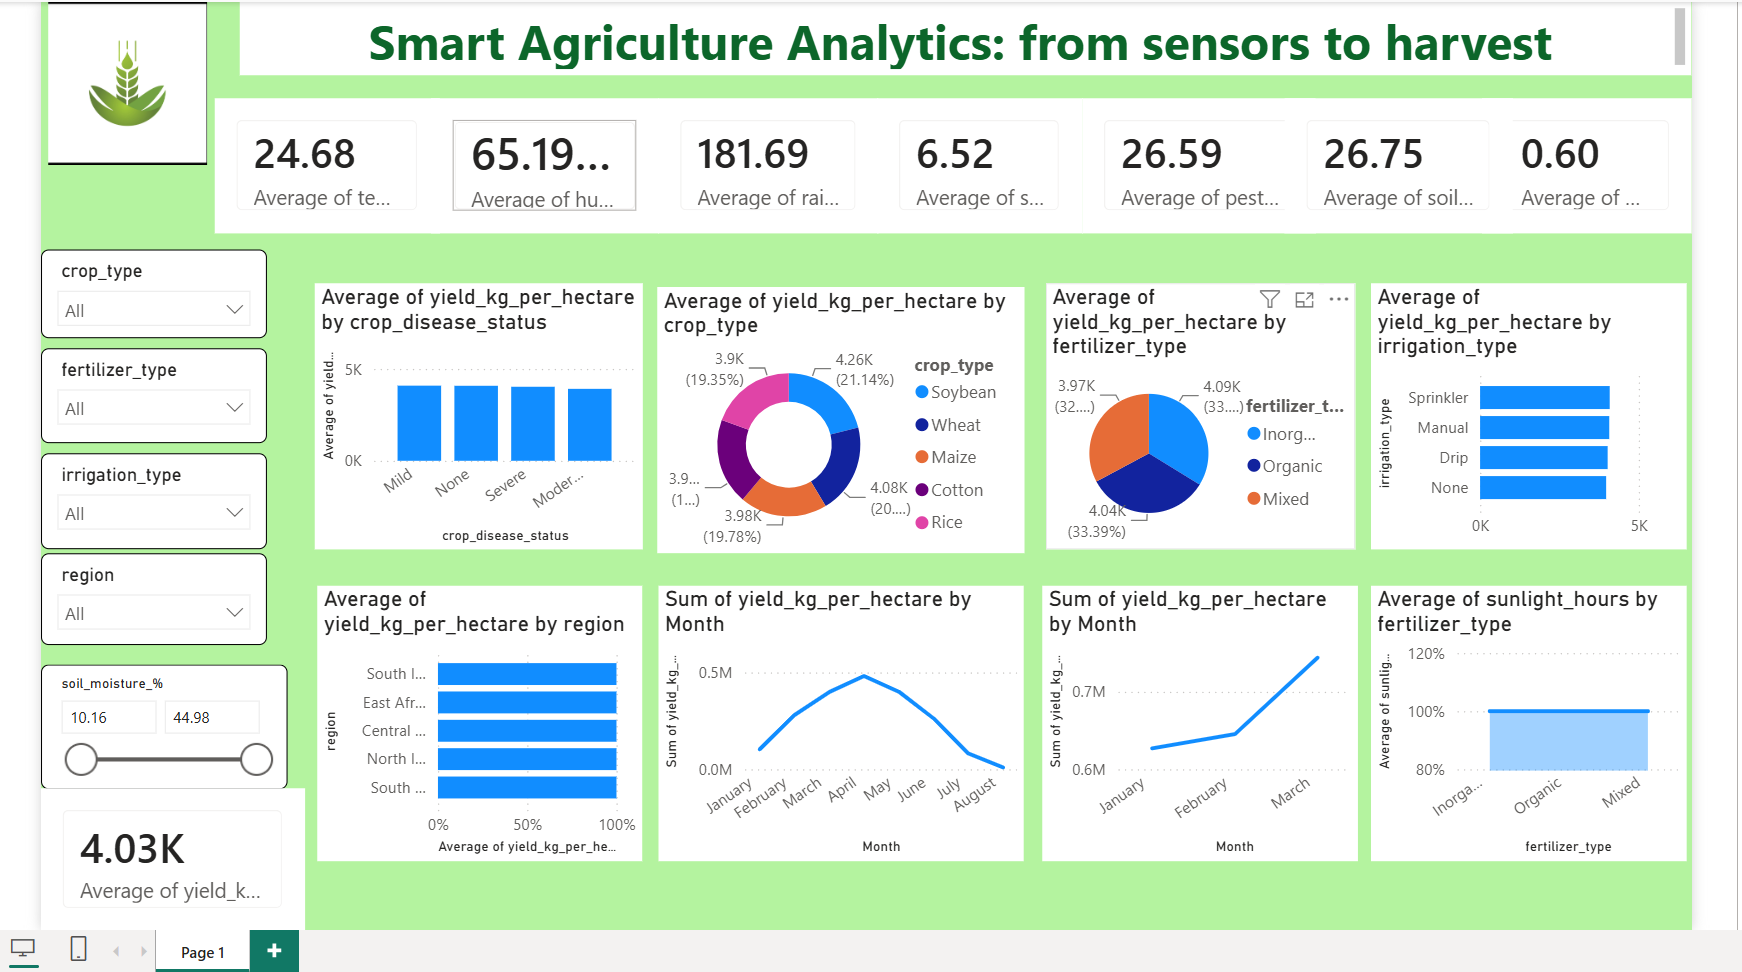

What the dashboard file says about the page in this screenshot:
{"tool":"powerbi","page":{"name":"Page 1","canvas":[1280,720],"ordinal":0},"visuals":[{"type":"cardVisual","fields":{"Data":["Avg(Smart_Farming_Crop_Yield_2024.humidity_%)"]},"box":[302.2,74.4,176.7,104.4],"z":0},{"type":"cardVisual","fields":{"Data":["Avg(Smart_Farming_Crop_Yield_2024.NDVI_index)"]},"box":[1117.8,74.4,162.2,104.4],"z":1},{"type":"cardVisual","fields":{"Data":["Avg(Smart_Farming_Crop_Yield_2024.pesticide_usage_ml)"]},"box":[807.8,74.4,181.1,104.4],"z":2},{"type":"cardVisual","fields":{"Data":["Avg(Smart_Farming_Crop_Yield_2024.rainfall_mm)"]},"box":[478.9,74.4,170,104.4],"z":3},{"type":"cardVisual","fields":{"Data":["Avg(Smart_Farming_Crop_Yield_2024.soil_moisture_%)"]},"box":[964.4,74.4,176.7,104.4],"z":4},{"type":"cardVisual","fields":{"Data":["Avg(Smart_Farming_Crop_Yield_2024.soil_pH)"]},"box":[648.9,74.4,158.9,104.4],"z":5},{"type":"cardVisual","fields":{"Data":["Avg(Smart_Farming_Crop_Yield_2024.temperature_C)"]},"box":[134.4,74.4,174.4,104.4],"z":6},{"type":"clusteredColumnChart","fields":{"Category":["Smart_Farming_Crop_Yield_2024.crop_disease_status"],"Y":["Avg(Smart_Farming_Crop_Yield_2024.yield_kg_per_hectare)"]},"box":[212.2,217.8,254.4,206.7],"z":7},{"type":"donutChart","fields":{"Y":["Avg(Smart_Farming_Crop_Yield_2024.yield_kg_per_hectare)"],"Category":["Smart_Farming_Crop_Yield_2024.crop_type"]},"box":[477.8,221.1,284.4,206.7],"z":8},{"type":"pieChart","fields":{"Y":["Avg(Smart_Farming_Crop_Yield_2024.yield_kg_per_hectare)"],"Category":["Smart_Farming_Crop_Yield_2024.fertilizer_type"]},"box":[778.9,217.8,240,206.7],"z":9},{"type":"barChart","fields":{"Y":["Avg(Smart_Farming_Crop_Yield_2024.yield_kg_per_hectare)"],"Category":["Smart_Farming_Crop_Yield_2024.irrigation_type"]},"box":[1031.1,217.8,244.4,206.7],"z":10},{"type":"lineChart","fields":{"Y":["Sum(Smart_Farming_Crop_Yield_2024.yield_kg_per_hectare)"],"Category":["Smart_Farming_Crop_Yield_2024.timestamp.Variation.Date Hierarchy.Month"]},"box":[478.9,452.2,283.3,213.3],"z":11},{"type":"lineChart","fields":{"Y":["Sum(Smart_Farming_Crop_Yield_2024.yield_kg_per_hectare)"],"Category":["Smart_Farming_Crop_Yield_2024.sowing_date.Variation.Date Hierarchy.Month"]},"box":[776.7,452.2,244.4,213.3],"z":12},{"type":"slicer","fields":{"Values":["Smart_Farming_Crop_Yield_2024.crop_type"]},"box":[0,192.2,175.6,68.9],"z":13},{"type":"slicer","fields":{"Values":["Smart_Farming_Crop_Yield_2024.fertilizer_type"]},"box":[0,268.9,175.6,73.3],"z":14},{"type":"slicer","fields":{"Values":["Smart_Farming_Crop_Yield_2024.irrigation_type"]},"box":[0,350,175.6,74.4],"z":15},{"type":"slicer","fields":{"Values":["Smart_Farming_Crop_Yield_2024.region"]},"box":[0,427.8,175.6,71.1],"z":16},{"type":"hundredPercentStackedBarChart","fields":{"Category":["Smart_Farming_Crop_Yield_2024.region"],"Y":["Avg(Smart_Farming_Crop_Yield_2024.yield_kg_per_hectare)"]},"box":[214.4,452.2,252.2,213.3],"z":17},{"type":"slicer","fields":{"Values":["Smart_Farming_Crop_Yield_2024.soil_moisture_%"]},"box":[0,513.3,191.1,96.7],"z":18},{"type":"cardVisual","fields":{"Data":["Avg(Smart_Farming_Crop_Yield_2024.yield_kg_per_hectare)"]},"box":[0,610,204.4,110],"z":19},{"type":"hundredPercentStackedAreaChart","fields":{"Category":["Smart_Farming_Crop_Yield_2024.fertilizer_type"],"Y":["Avg(Smart_Farming_Crop_Yield_2024.sunlight_hours)"]},"box":[1031.1,452.2,244.4,213.3],"z":20},{"type":"textbox","box":[154.4,0,1125.6,56.7],"z":21},{"type":"image","box":[0,0,134.4,126.7],"z":23}]}

Visuals, with their boxes on the page's 1280x720 design canvas (x1, y1, x2, y2). These are canvas units, not pixel positions in the 1742x972 screenshot, which may show the page scaled, cropped or inside an application window:
cardVisual - Avg(Smart_Farming_Crop_Yield_2024.humidity_%): [302, 74, 479, 179]
cardVisual - Avg(Smart_Farming_Crop_Yield_2024.NDVI_index): [1118, 74, 1280, 179]
cardVisual - Avg(Smart_Farming_Crop_Yield_2024.pesticide_usage_ml): [808, 74, 989, 179]
cardVisual - Avg(Smart_Farming_Crop_Yield_2024.rainfall_mm): [479, 74, 649, 179]
cardVisual - Avg(Smart_Farming_Crop_Yield_2024.soil_moisture_%): [964, 74, 1141, 179]
cardVisual - Avg(Smart_Farming_Crop_Yield_2024.soil_pH): [649, 74, 808, 179]
cardVisual - Avg(Smart_Farming_Crop_Yield_2024.temperature_C): [134, 74, 309, 179]
clusteredColumnChart - Smart_Farming_Crop_Yield_2024.crop_disease_status x Avg(Smart_Farming_Crop_Yield_2024.yield_kg_per_hectare): [212, 218, 467, 424]
donutChart - Avg(Smart_Farming_Crop_Yield_2024.yield_kg_per_hectare) x Smart_Farming_Crop_Yield_2024.crop_type: [478, 221, 762, 428]
pieChart - Avg(Smart_Farming_Crop_Yield_2024.yield_kg_per_hectare) x Smart_Farming_Crop_Yield_2024.fertilizer_type: [779, 218, 1019, 424]
barChart - Avg(Smart_Farming_Crop_Yield_2024.yield_kg_per_hectare) x Smart_Farming_Crop_Yield_2024.irrigation_type: [1031, 218, 1276, 424]
lineChart - Sum(Smart_Farming_Crop_Yield_2024.yield_kg_per_hectare) x Smart_Farming_Crop_Yield_2024.timestamp.Variation.Date Hierarchy.Month: [479, 452, 762, 666]
lineChart - Sum(Smart_Farming_Crop_Yield_2024.yield_kg_per_hectare) x Smart_Farming_Crop_Yield_2024.sowing_date.Variation.Date Hierarchy.Month: [777, 452, 1021, 666]
slicer - Smart_Farming_Crop_Yield_2024.crop_type: [0, 192, 176, 261]
slicer - Smart_Farming_Crop_Yield_2024.fertilizer_type: [0, 269, 176, 342]
slicer - Smart_Farming_Crop_Yield_2024.irrigation_type: [0, 350, 176, 424]
slicer - Smart_Farming_Crop_Yield_2024.region: [0, 428, 176, 499]
hundredPercentStackedBarChart - Smart_Farming_Crop_Yield_2024.region x Avg(Smart_Farming_Crop_Yield_2024.yield_kg_per_hectare): [214, 452, 467, 666]
slicer - Smart_Farming_Crop_Yield_2024.soil_moisture_%: [0, 513, 191, 610]
cardVisual - Avg(Smart_Farming_Crop_Yield_2024.yield_kg_per_hectare): [0, 610, 204, 720]
hundredPercentStackedAreaChart - Smart_Farming_Crop_Yield_2024.fertilizer_type x Avg(Smart_Farming_Crop_Yield_2024.sunlight_hours): [1031, 452, 1276, 666]
textbox: [154, 0, 1280, 57]
image: [0, 0, 134, 127]
